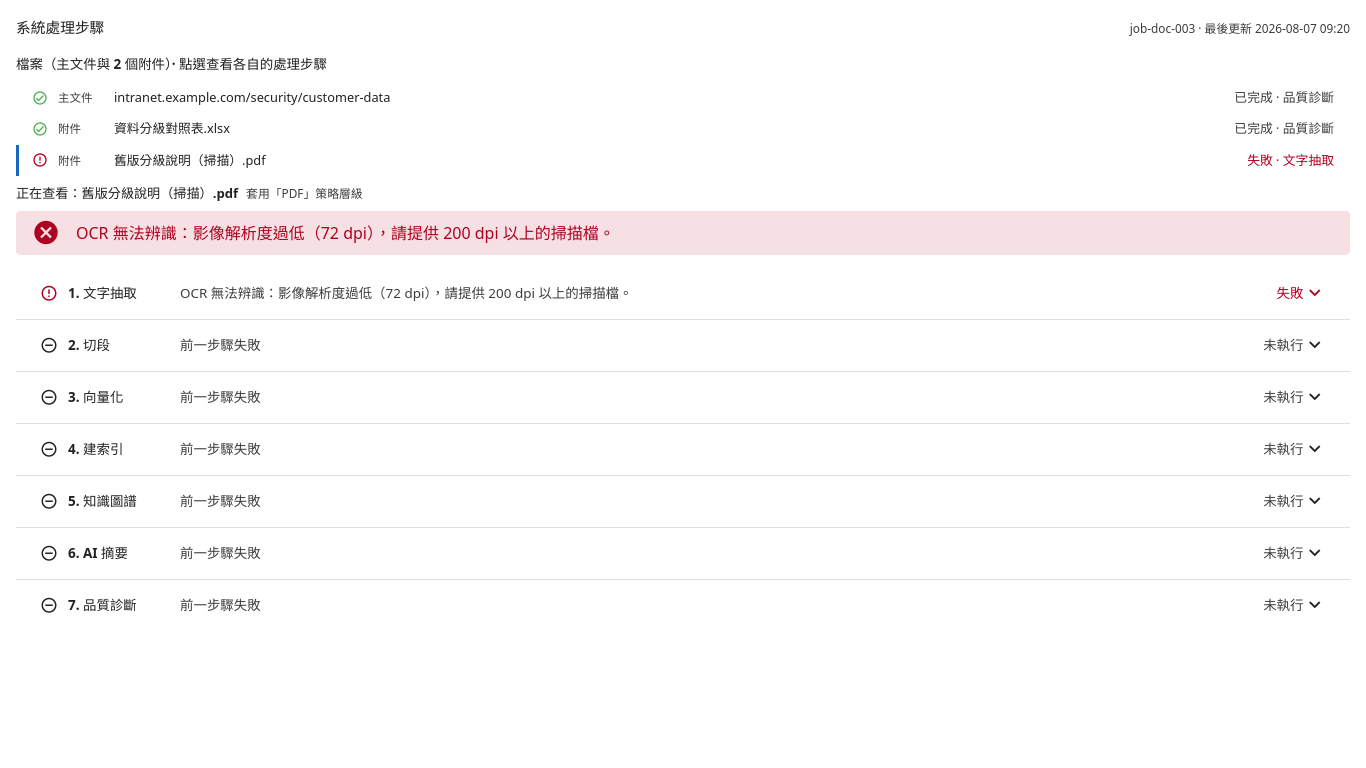
Test: 逐檔案處理步驟 › should switch the step panel to the selected attachment
Click the tab with test id "processing-file-doc-003-main" at [75, 98], box left=16, top=82, right=1350, bottom=113
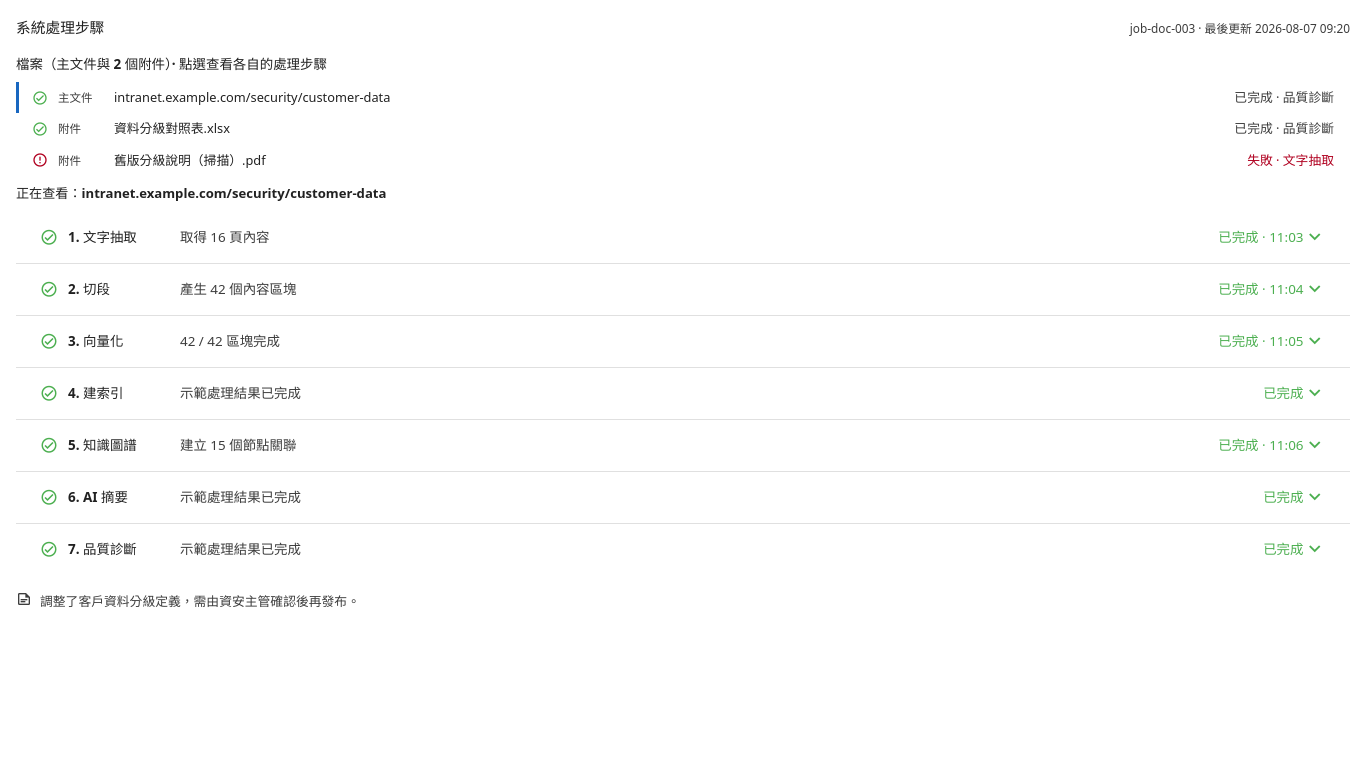
Result: the text "正在查看：intranet.example.com/security/customer-data" is shown at left=16, top=184, right=386, bottom=204
Result: the text "OCR 無法辨識" is gone
